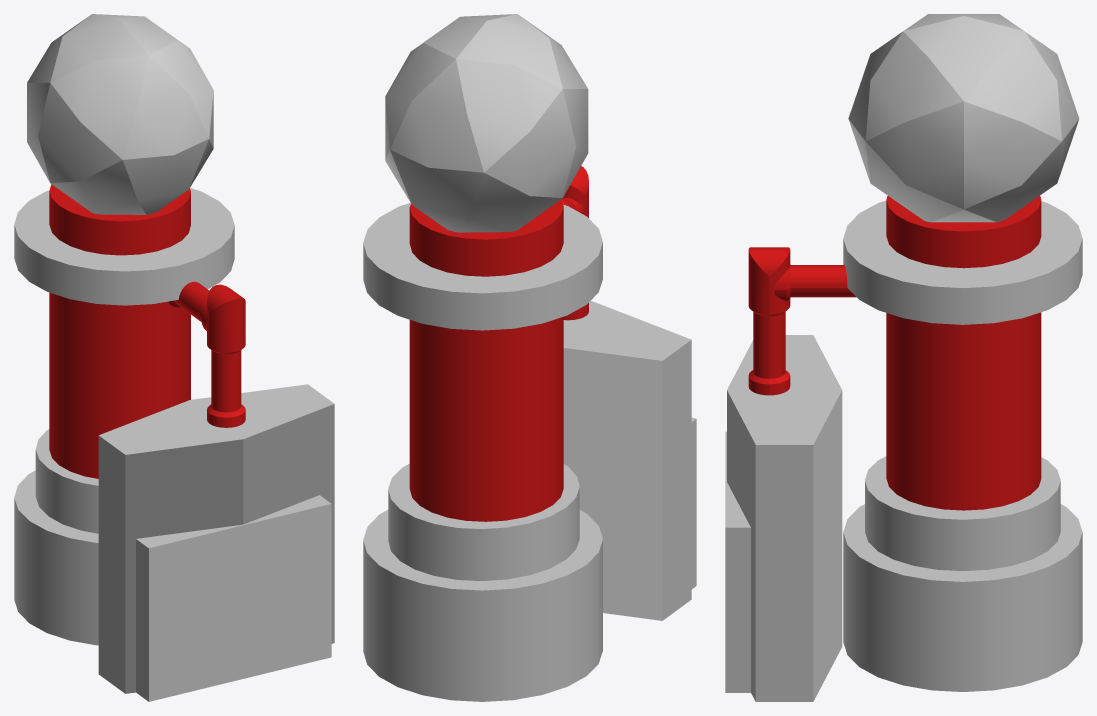
The model's file is mine_factory_2,.obj.
The picture shows the model from 3 angles, left to right: view 1: azimuth 30°, elevation 25°; view 2: azimuth 150°, elevation 25°; view 3: azimuth 270°, elevation 25°; orthographic projection. The views are drawn at different scales.
Parts seen in each view (by area): view 1: cylinder, hexagon, block, icosphere, cylinderHollow, detail_pipeEnd; view 2: cylinder, icosphere, hexagon, cylinderHollow, detail_pipeEnd, block; view 3: cylinder, icosphere, hexagon, cylinderHollow, detail_pipeEnd, block.
Part boxes in pixels (<box>): cylinder: <box>14,184,190,645</box>; hexagon: <box>98,384,334,693</box>; block: <box>136,495,331,701</box>; icosphere: <box>27,14,213,214</box>; cylinderHollow: <box>14,188,234,305</box>; detail_pipeEnd: <box>167,281,245,427</box>; cylinder: <box>363,199,602,701</box>; icosphere: <box>385,14,588,232</box>; hexagon: <box>563,301,691,620</box>; cylinderHollow: <box>363,203,602,330</box>; detail_pipeEnd: <box>561,166,588,320</box>; block: <box>691,417,696,589</box>; cylinder: <box>843,196,1082,691</box>; icosphere: <box>848,14,1079,222</box>; hexagon: <box>727,335,842,701</box>; cylinderHollow: <box>843,200,1082,324</box>; detail_pipeEnd: <box>748,247,856,395</box>; block: <box>725,431,750,692</box>.
Size of the model in its own units: 0.6415 by 1.7 by 0.8814.
